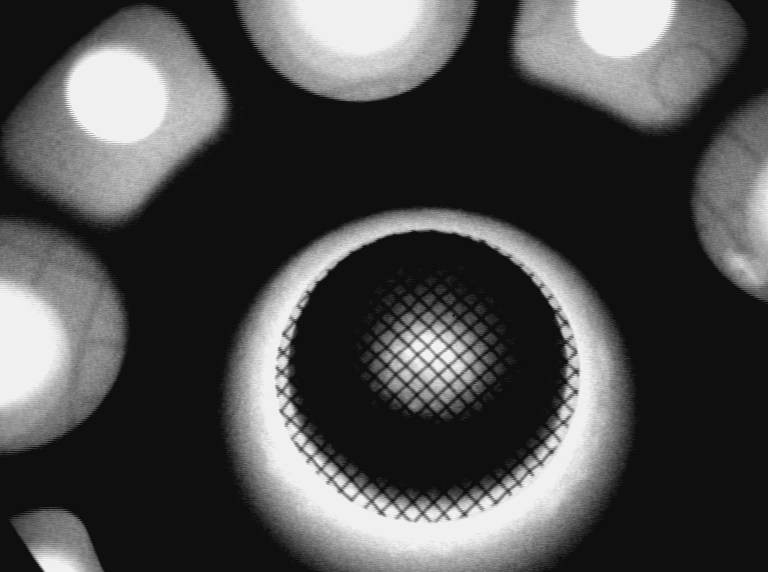defect: (722, 245, 765, 300)
